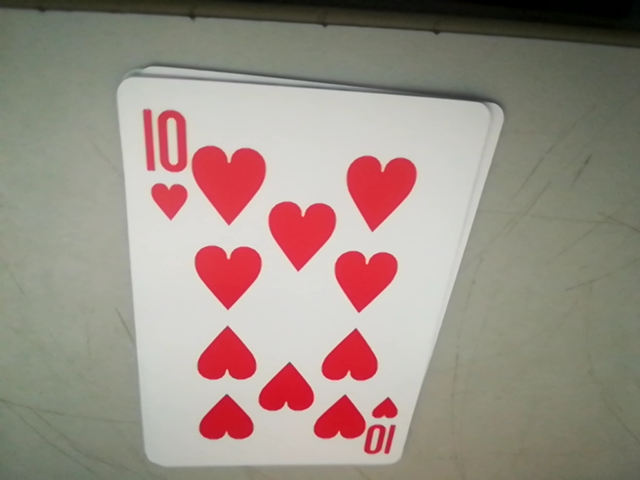hx 10: (130, 100, 194, 224), (366, 400, 400, 456)
